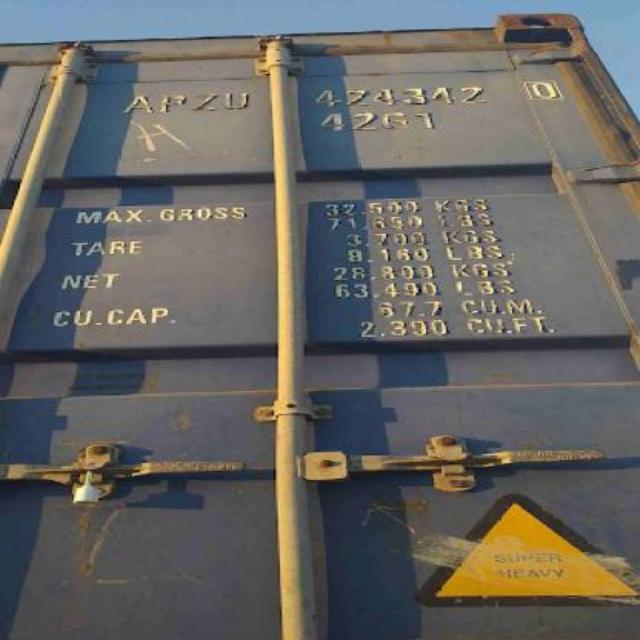0: (524, 80, 570, 100)
2: (454, 84, 492, 108), (344, 85, 370, 108)
3: (401, 84, 434, 108)
4: (368, 82, 400, 108), (434, 80, 458, 110), (314, 84, 340, 108)
A: (122, 89, 152, 115)
P: (153, 94, 189, 116)
U: (222, 87, 255, 113)
Z: (182, 91, 222, 115)
